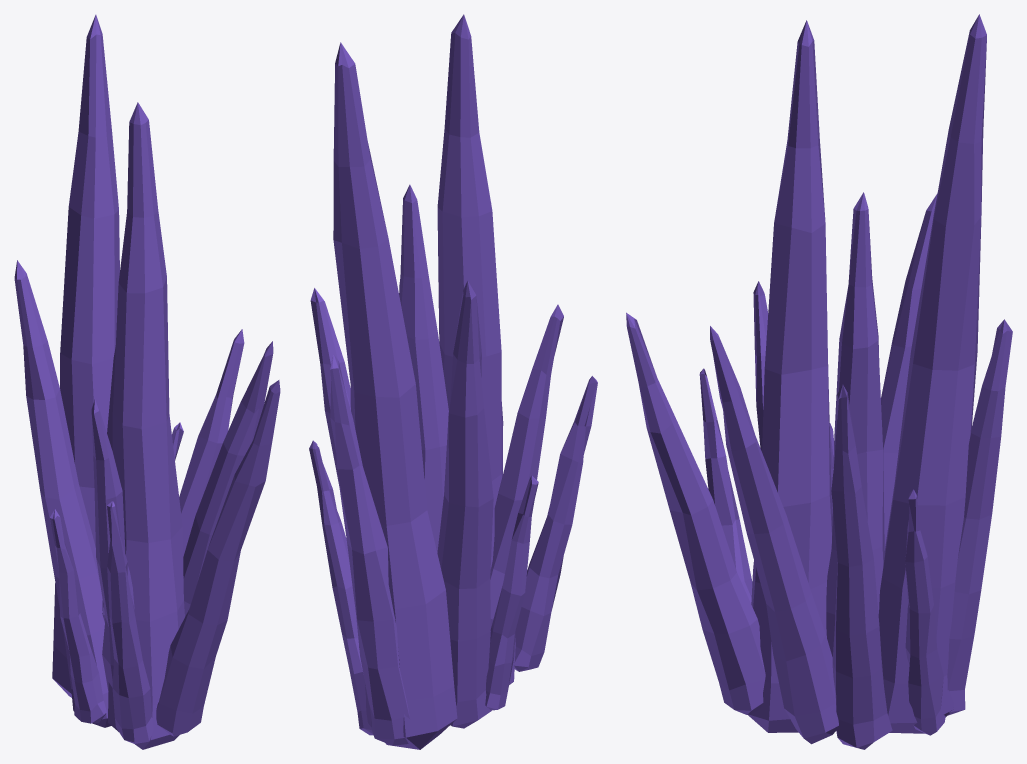
File: coral-6.gltf
3 renders of one model, left to right at view 1: azimuth 30°, elevation 25°; view 2: azimuth 150°, elevation 25°; view 3: azimuth 270°, elevation 25°, orthographic. The views are drawn at different scales.
Visible parts, largest first — view 1: Coral.005; view 2: Coral.005; view 3: Coral.005.
Part boxes in pixels (box(x1,y1,x2,y2)): Coral.005: box(14, 14, 280, 749); Coral.005: box(309, 14, 597, 749); Coral.005: box(626, 14, 1012, 749).
Size of the model in its own units: 0.2175 by 0.681 by 0.3266.
